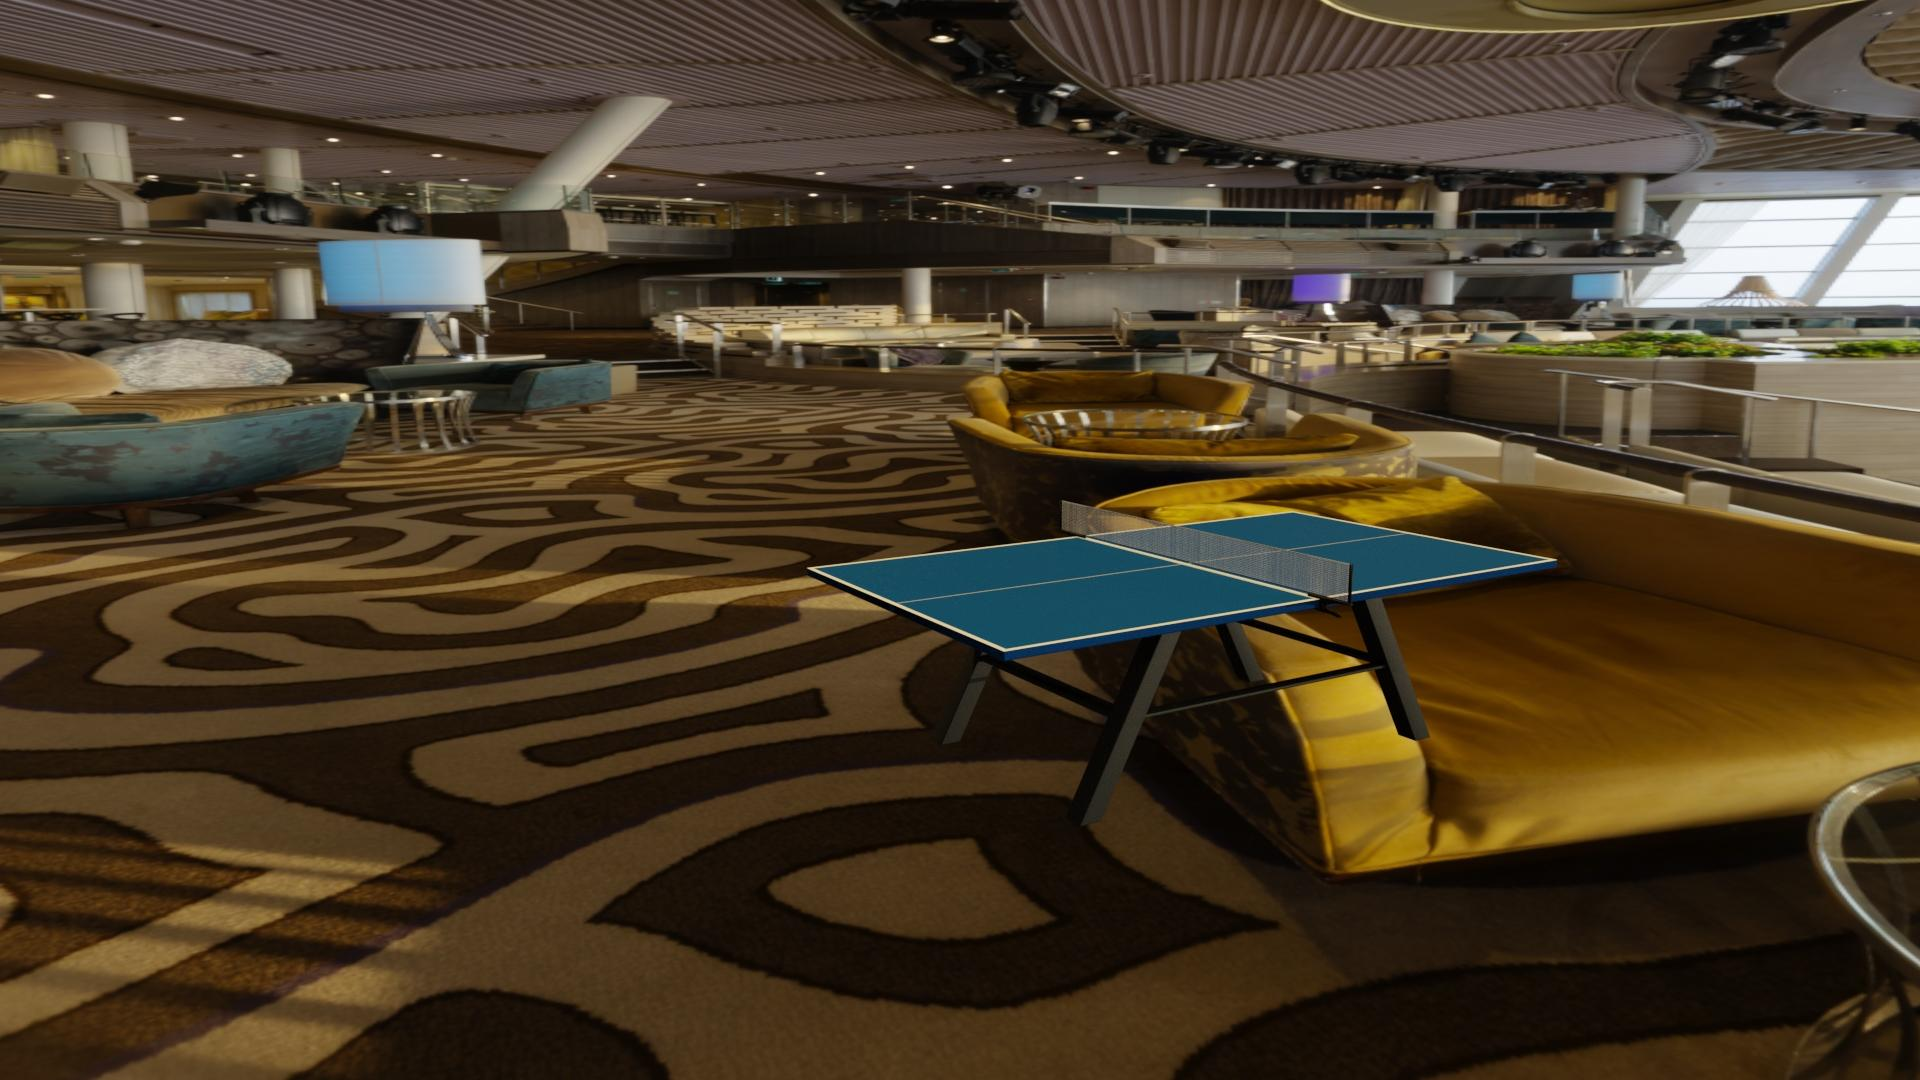table: (814, 512, 1549, 649)
